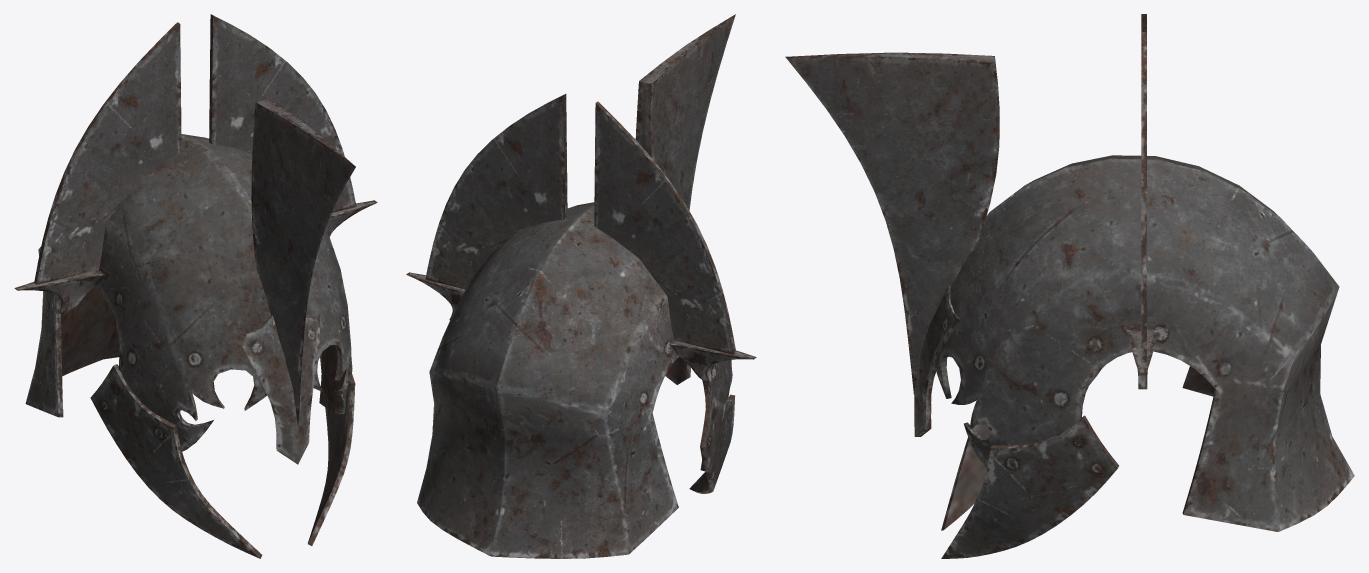
Rendered from sk_gb_uruk_helmet_elite_f.fbx.
3 views of the same model, side by side, from view 1: azimuth 30°, elevation 25°; view 2: azimuth 150°, elevation 25°; view 3: azimuth 270°, elevation 25° (orthographic). The views are drawn at different scales.
Visible parts, largest first — view 1: sk_gb_uruk_helmet_elite_f; view 2: sk_gb_uruk_helmet_elite_f; view 3: sk_gb_uruk_helmet_elite_f.
Boxes of the visible parts, x1=… form: sk_gb_uruk_helmet_elite_f: x1=14, y1=14, x2=377, y2=558; sk_gb_uruk_helmet_elite_f: x1=406, y1=14, x2=756, y2=558; sk_gb_uruk_helmet_elite_f: x1=785, y1=14, x2=1354, y2=558.
Size of the model in its own units: 0.321 by 0.3934 by 0.3976.
Materials: 1 (1 with a texture image).
